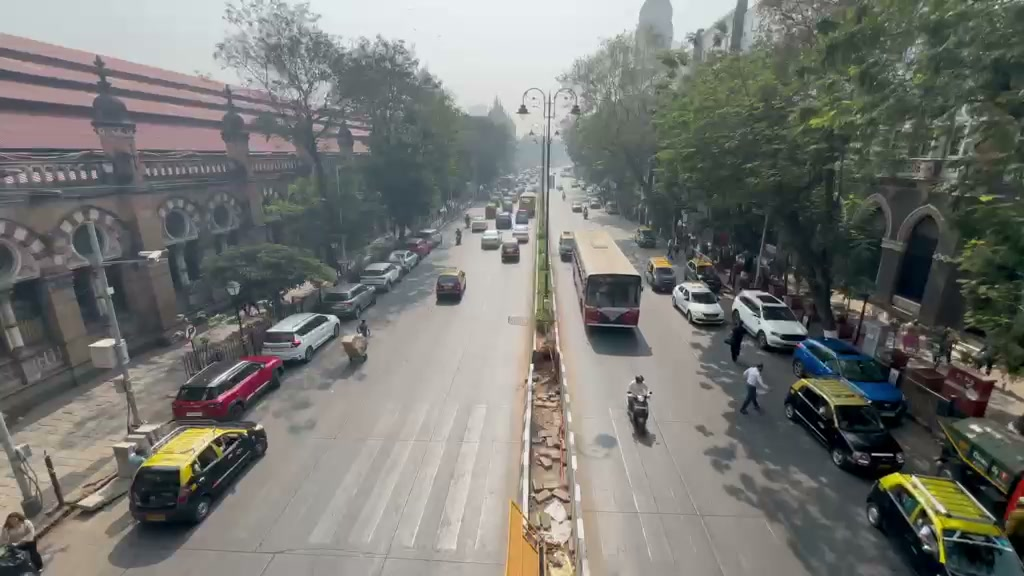bus: (571, 223, 644, 330), (581, 272, 643, 328)
car: (864, 470, 1022, 576), (128, 423, 269, 525), (783, 376, 906, 476), (790, 336, 909, 423), (171, 354, 283, 422), (731, 290, 809, 351), (260, 311, 340, 365), (316, 280, 377, 321), (671, 280, 725, 326), (647, 258, 680, 294), (360, 262, 402, 290), (436, 268, 467, 304), (406, 231, 437, 256), (387, 249, 419, 272), (500, 237, 521, 264), (480, 227, 502, 249), (635, 227, 658, 248), (468, 214, 489, 232)
motorcycle: (626, 388, 652, 436)
pedestrian: (1, 512, 44, 574), (740, 364, 769, 414), (626, 373, 651, 427), (729, 318, 745, 362)
truck: (865, 471, 1022, 575), (783, 376, 905, 478), (937, 416, 1023, 542)
